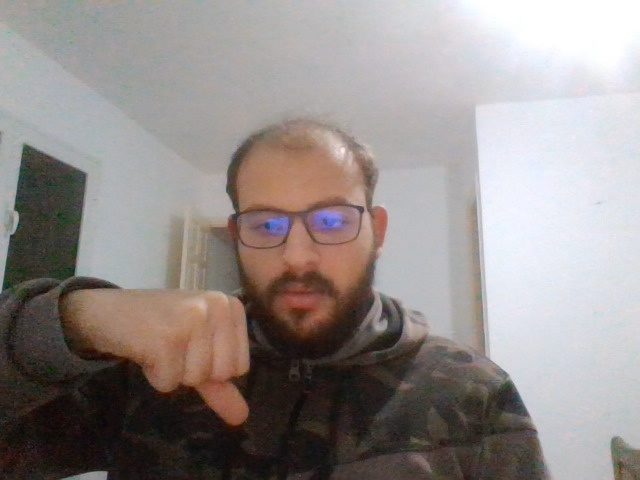Yes: (151, 298, 249, 427)
